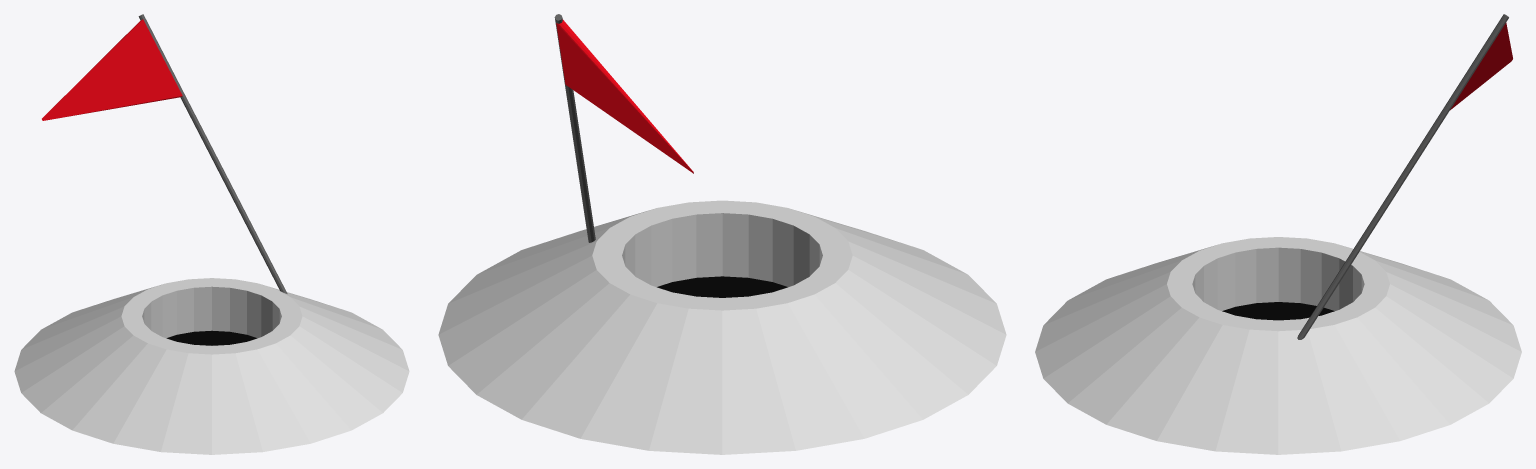
Rendered from hole.fbx.
3 renders of one model, left to right at view 1: azimuth 30°, elevation 25°; view 2: azimuth 150°, elevation 25°; view 3: azimuth 270°, elevation 25°, orthographic. The views are drawn at different scales.
Parts seen in each view (by area): view 1: Hole, Flag; view 2: Hole, Flag; view 3: Hole, Flag.
Part boxes in pixels (x1,y1,x2,y2): Hole: (14,278,409,454); Flag: (42,14,287,293); Hole: (438,200,1006,454); Flag: (554,14,693,242); Hole: (1035,237,1521,454); Flag: (1297,14,1512,339).
Bounding box in the file's own units: 757 × 757 × 602.
